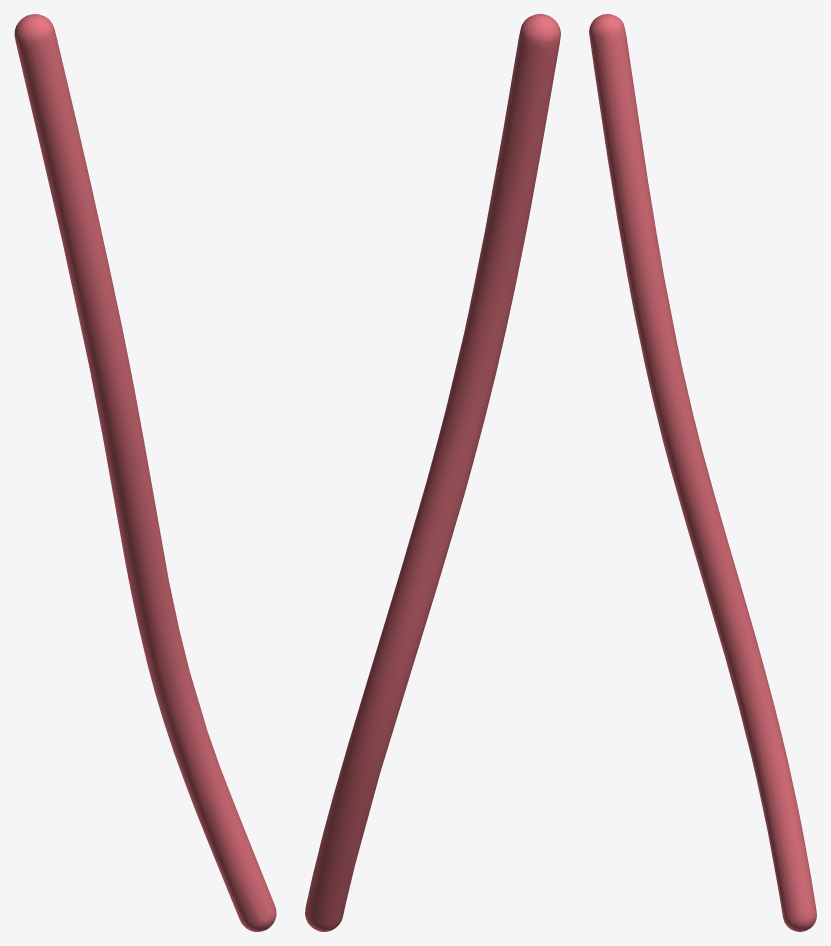
Rendered from fma23125_fj2331.glb.
The picture shows the model from 3 angles, left to right: view 1: azimuth 30°, elevation 25°; view 2: azimuth 150°, elevation 25°; view 3: azimuth 330°, elevation 25°; orthographic projection. The views are drawn at different scales.
Parts seen in each view (by area): view 1: FMA23125_FJ2331; view 2: FMA23125_FJ2331; view 3: FMA23125_FJ2331.
Boxes of the visible parts, box(x1,y1,x2,y2) form: FMA23125_FJ2331: box(14, 14, 276, 931); FMA23125_FJ2331: box(305, 14, 560, 931); FMA23125_FJ2331: box(589, 14, 816, 931).
Size of the model in its own units: 0.0197 by 0.0719 by 0.00507.
